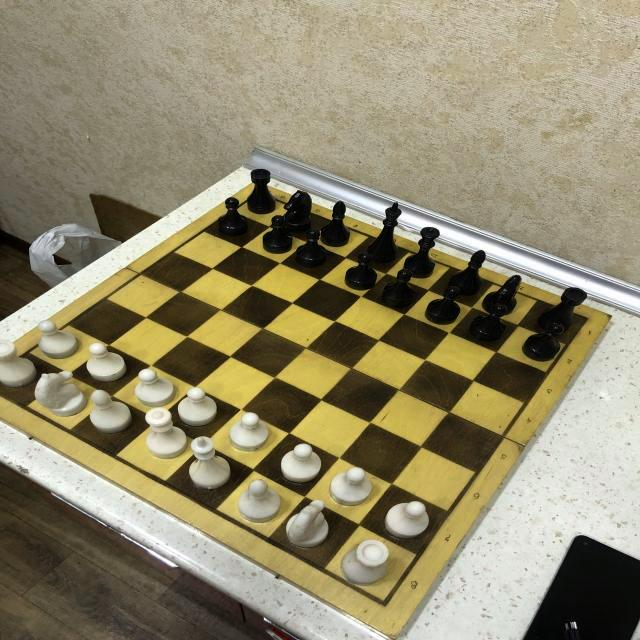chess-table-corners: (375, 598, 393, 609), (582, 316, 592, 322)
